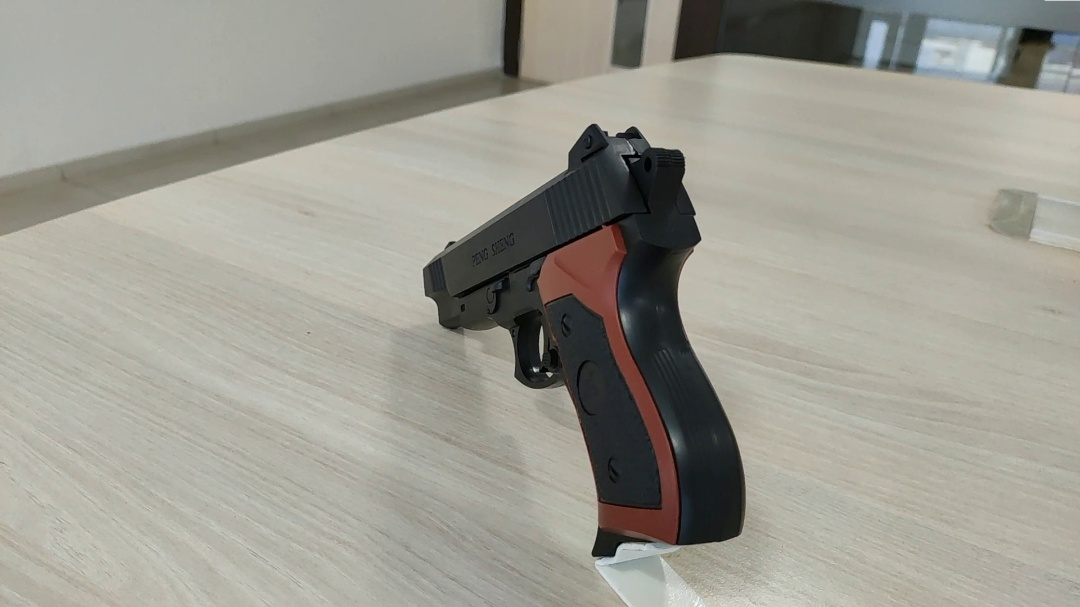gun: (294, 267, 462, 397)
